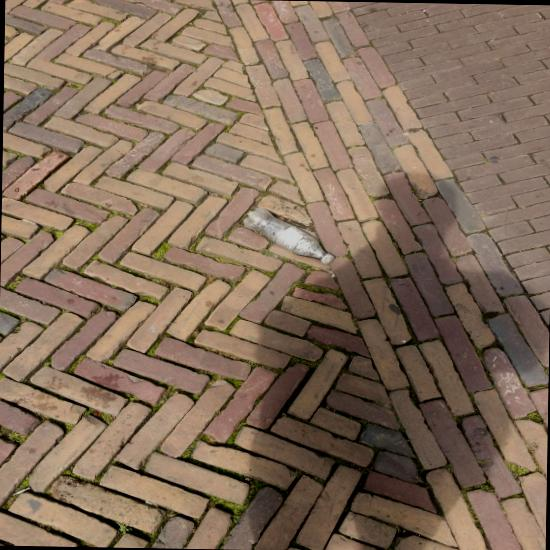Clear plastic bottle: (243, 208, 334, 264)
Plastic bottle cap: (321, 254, 334, 265)
Unlabeled litter: (13, 487, 30, 495)
